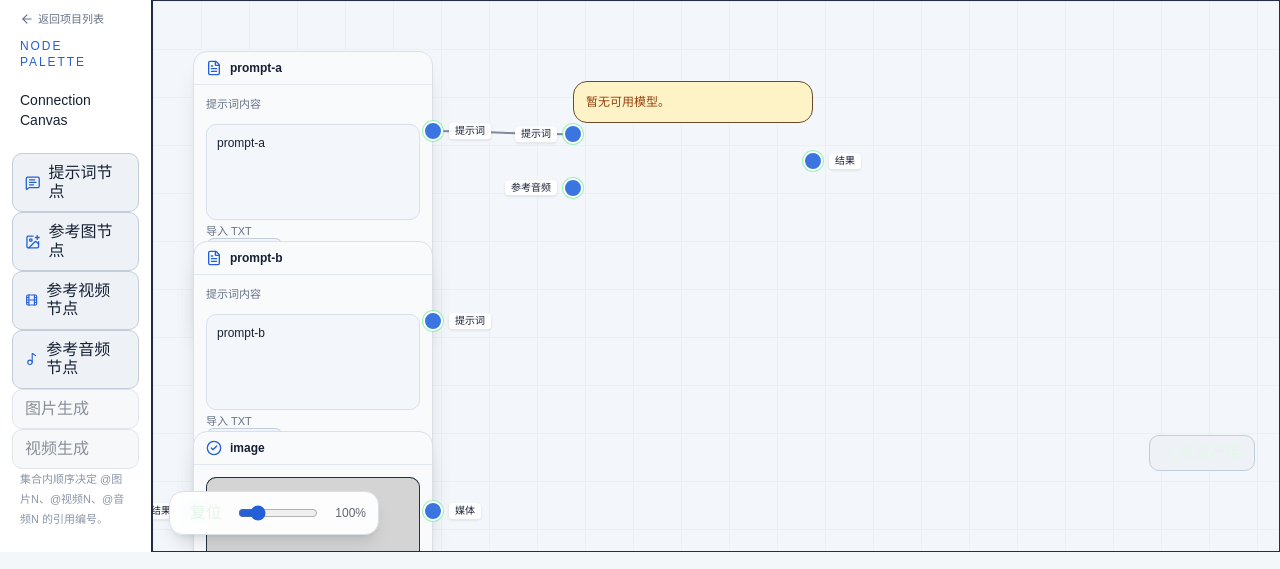
Test case: canvas named-port interactions › announces the prompt-occupied rejection while keeping a valid source available for retry
Step 1. Click the button with aria-label "prompt-b：提示词输出端口" → (433, 321), box [423,311,443,331]
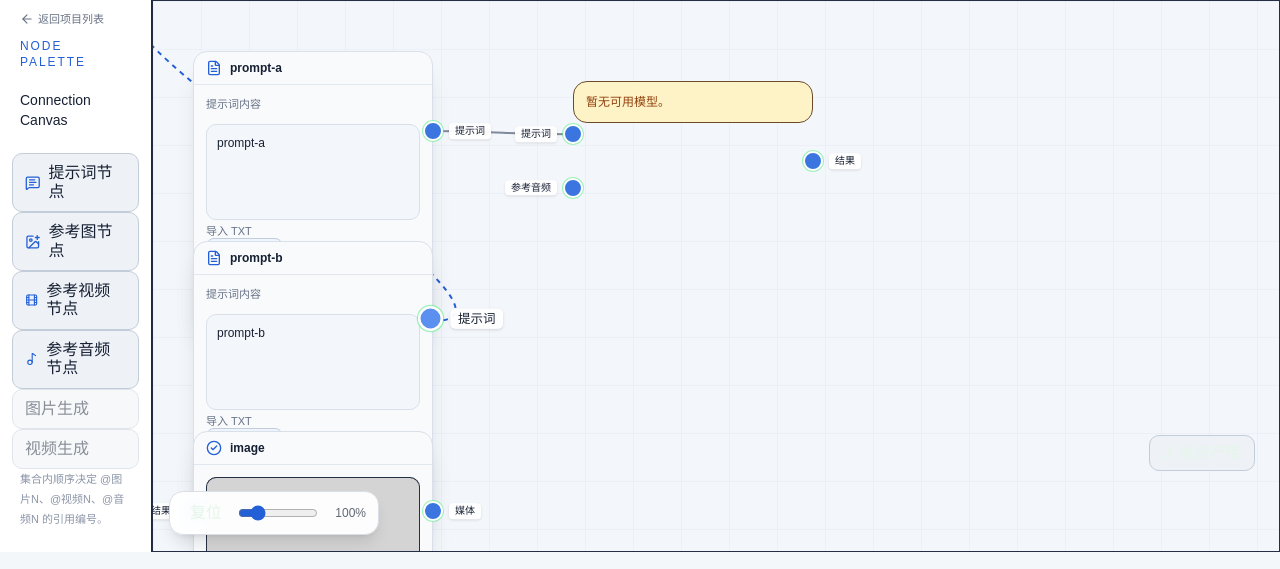
Step 2. Click the button with aria-label "model：提示词输入端口" → (573, 134), box [563,124,583,144]
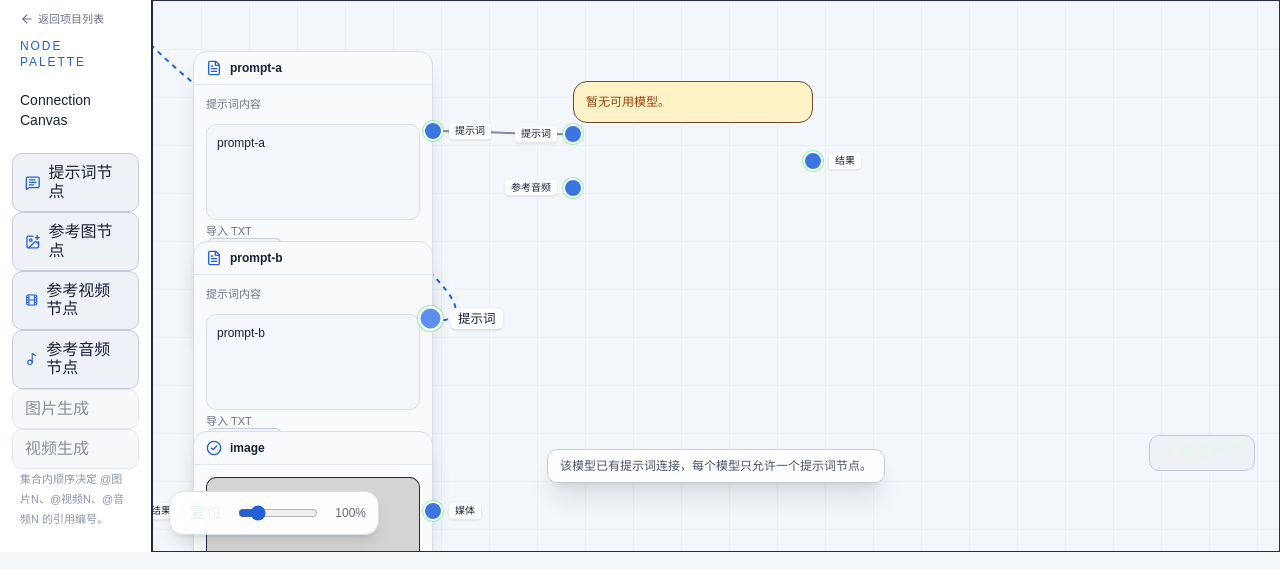
Now the message with test id "connection-status" reads "该模型已有提示词连接，每个模型只允许一个提示词节点。", box [560,459,872,473]
